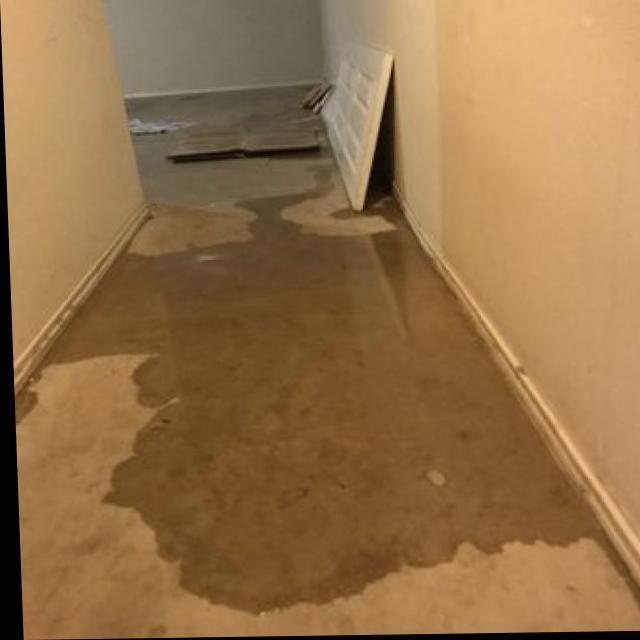water accumulation: (13, 186, 640, 612)
